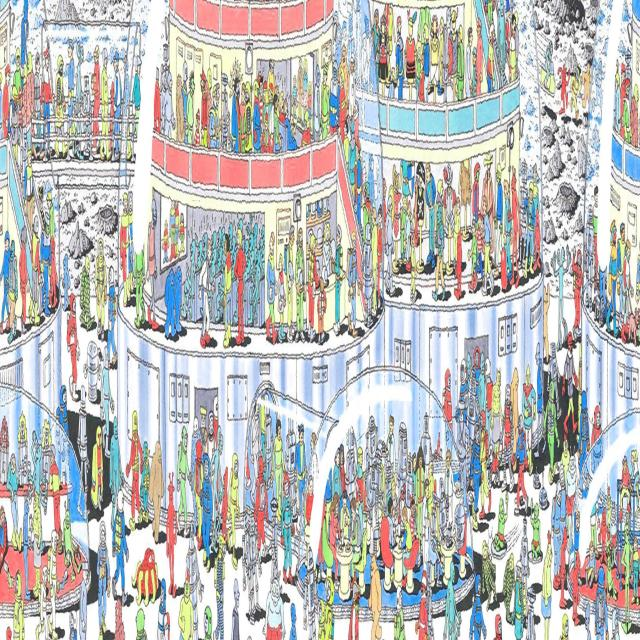waldo: (258, 74, 264, 97)
